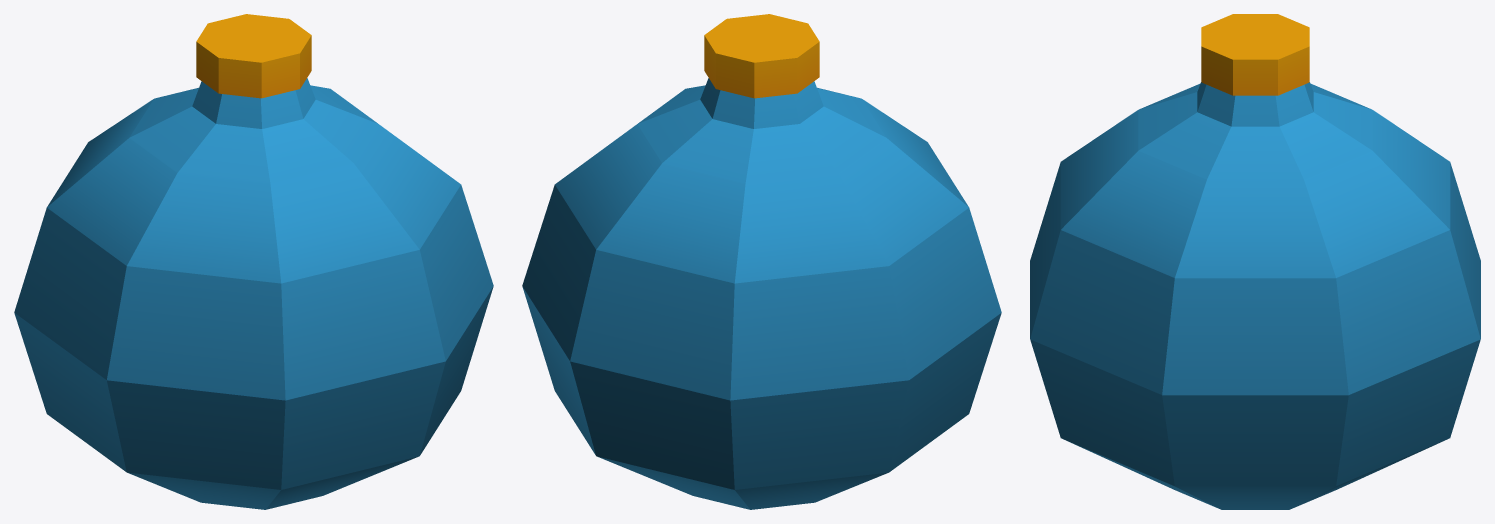
The model's file is ball blue.fbx.
3 renders of one model, left to right at view 1: azimuth 30°, elevation 25°; view 2: azimuth 150°, elevation 25°; view 3: azimuth 270°, elevation 25°, orthographic.
Visible parts, largest first — view 1: ball blue; view 2: ball blue; view 3: ball blue.
Part boxes in pixels (box(x1,y1,x2,y2)): ball blue: box(14, 14, 493, 509); ball blue: box(522, 14, 1001, 509); ball blue: box(1030, 14, 1480, 509).
Size of the model in its own units: 26.53 by 29.44 by 26.53.
